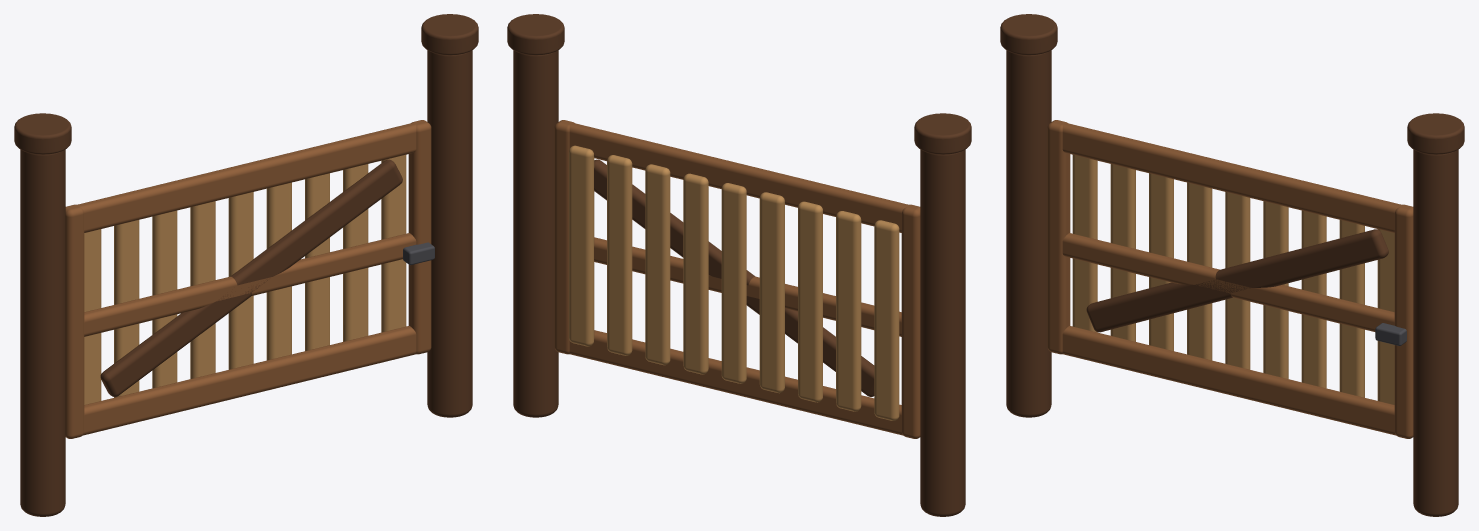
Rendered from cabin-garden-gate.glb.
3 renders of one model, left to right at view 1: azimuth 30°, elevation 25°; view 2: azimuth 150°, elevation 25°; view 3: azimuth 330°, elevation 25°, orthographic.
Visible parts, largest first — view 1: post.left, post.right, leaf.rail.top, leaf.rail.bottom, leaf.brace, leaf.rail.middle, leaf.stile.right, leaf.stile, leaf.picket.5, leaf.picket.9, leaf.picket.4, leaf.picket.6 (+8 smaller); view 2: post.left, post.right, leaf.rail.top, leaf.rail.bottom, leaf.picket.7, leaf.picket.1, leaf.picket.5, leaf.picket.6, leaf.picket.2, leaf.picket.4, leaf.picket.8, leaf.picket.9 (+7 smaller); view 3: post.right, post.left, leaf.rail.top, leaf.rail.bottom, leaf.brace, leaf.rail.middle, leaf.stile, leaf.stile.right, leaf.picket.1, leaf.picket.5, leaf.picket.4, leaf.picket.6 (+8 smaller).
Boxes of the visible parts, x1,y1,x2,y2 form: post.left: [20, 149, 65, 516]; post.right: [427, 50, 472, 417]; leaf.rail.top: [65, 121, 425, 232]; leaf.rail.bottom: [83, 326, 416, 435]; leaf.brace: [100, 159, 402, 396]; leaf.rail.middle: [84, 233, 416, 336]; leaf.stile.right: [408, 120, 431, 354]; leaf.stile: [65, 204, 84, 438]; leaf.picket.5: [228, 192, 253, 369]; leaf.picket.9: [381, 154, 406, 332]; leaf.picket.4: [190, 201, 215, 378]; leaf.picket.6: [266, 182, 291, 360]; post.left: [920, 149, 965, 516]; post.right: [513, 50, 558, 417]; leaf.rail.top: [559, 121, 918, 232]; leaf.rail.bottom: [569, 330, 902, 435]; leaf.picket.7: [645, 164, 670, 365]; leaf.picket.1: [874, 220, 899, 420]; leaf.picket.5: [721, 183, 746, 383]; leaf.picket.6: [683, 173, 708, 374]; leaf.picket.2: [836, 211, 861, 411]; leaf.picket.4: [759, 192, 784, 393]; leaf.picket.8: [607, 155, 632, 355]; leaf.picket.9: [569, 145, 594, 346]; post.right: [1413, 149, 1458, 516]; post.left: [1006, 50, 1051, 417]; leaf.rail.top: [1052, 121, 1413, 232]; leaf.rail.bottom: [1062, 326, 1395, 435]; leaf.brace: [1086, 229, 1388, 332]; leaf.rail.middle: [1062, 233, 1394, 331]; leaf.stile: [1047, 120, 1070, 354]; leaf.stile.right: [1394, 204, 1413, 438]; leaf.picket.1: [1072, 154, 1097, 332]; leaf.picket.5: [1225, 192, 1250, 369]; leaf.picket.4: [1187, 182, 1212, 360]; leaf.picket.6: [1263, 201, 1288, 378].
Size of the model in its own units: 1.75 by 1.41 by 0.19.
